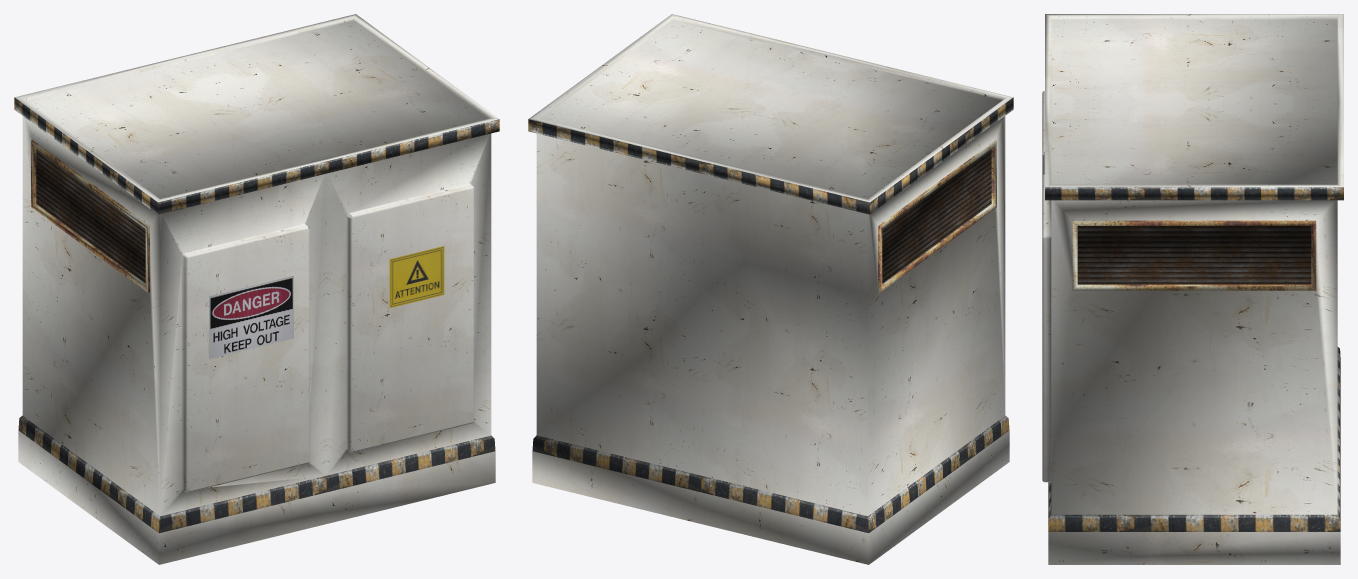
The model's file is energiebox_lod1.obj.
The picture shows the model from 3 angles, left to right: view 1: azimuth 30°, elevation 25°; view 2: azimuth 150°, elevation 25°; view 3: azimuth 270°, elevation 25°; orthographic projection. The views are drawn at different scales.
Parts seen in each view (by area): view 1: energiebox_lod1.obj; view 2: energiebox_lod1.obj; view 3: energiebox_lod1.obj.
Boxes of the visible parts, x1,y1,x2,y2 form: energiebox_lod1.obj: (14,14,499,564); energiebox_lod1.obj: (528,14,1013,564); energiebox_lod1.obj: (1042,14,1343,564).
Bounding box in the file's own units: 2.34 × 2.39 × 1.72.
1 material, 1 textured.
